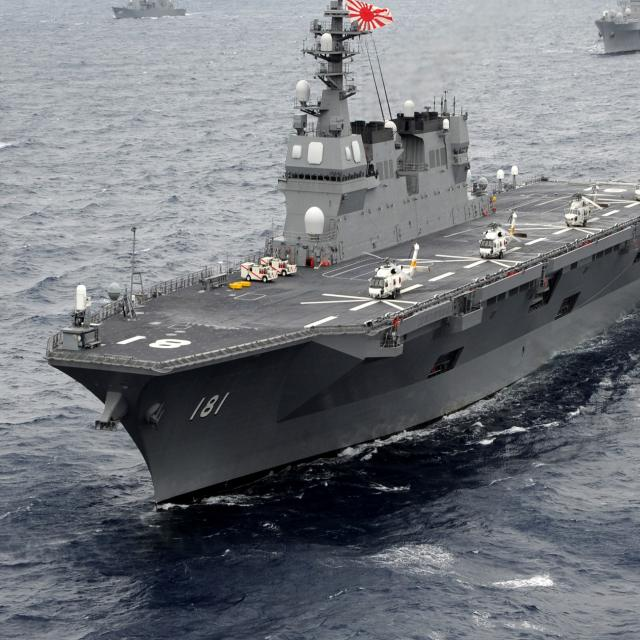Portanaves: (46, 1, 640, 524)
